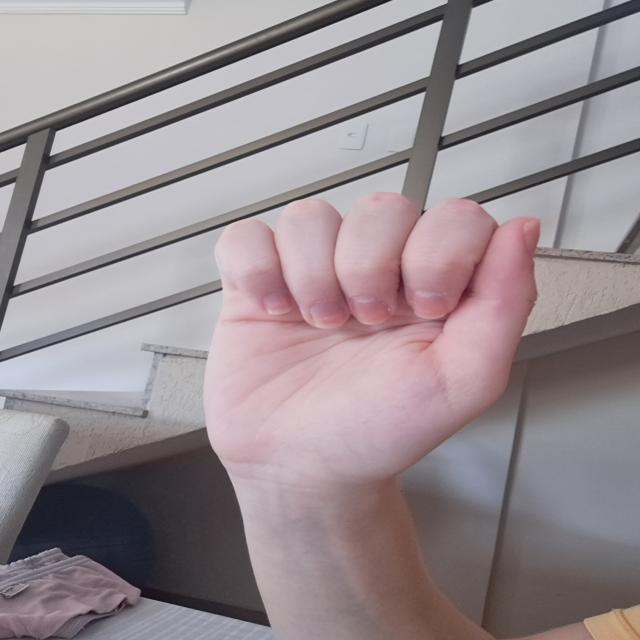A: (193, 188, 554, 467)
